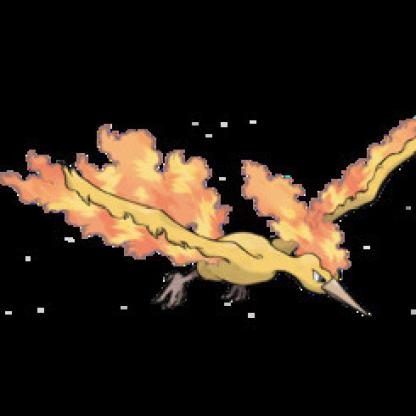Moltres: (1, 75, 416, 346)
